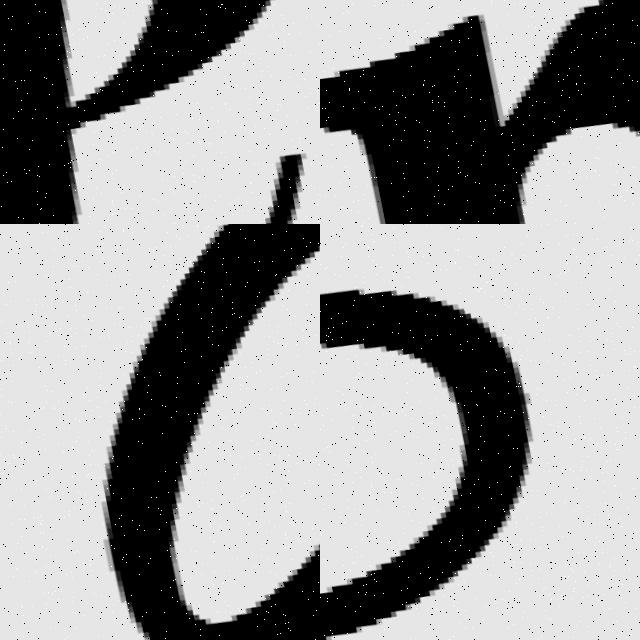0: (19, 224, 320, 640)
5: (320, 224, 570, 640)
R: (320, 0, 640, 224)
